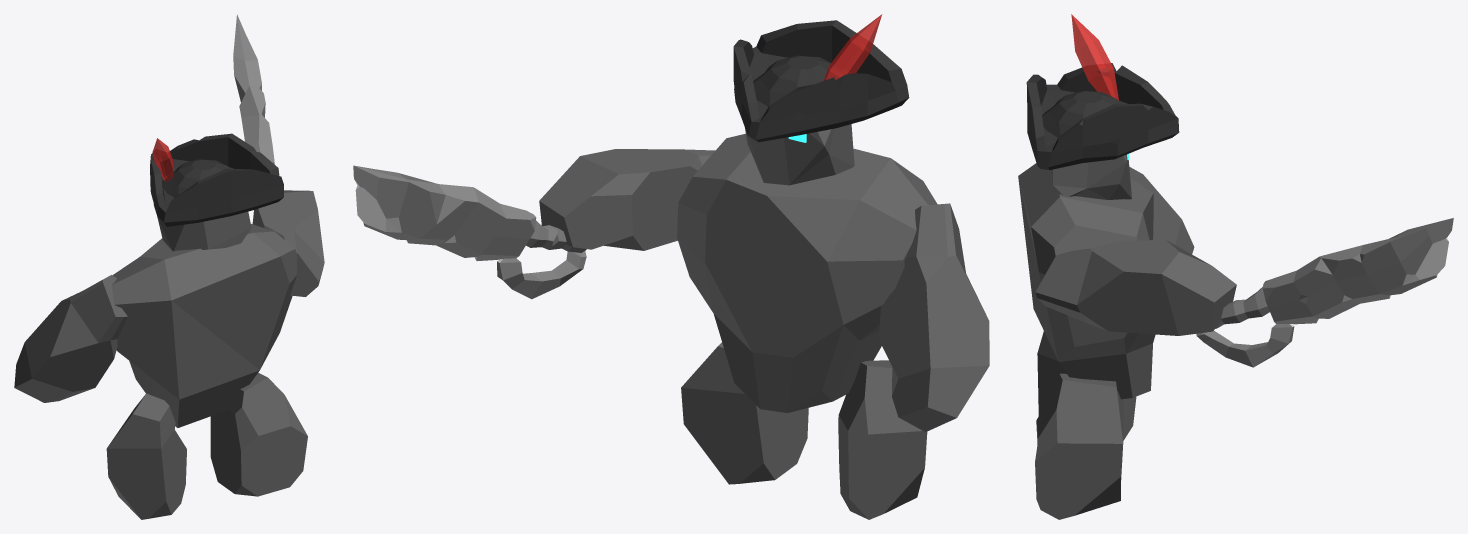
The model's file is golemSword.fbx.
3 renders of one model, left to right at view 1: azimuth 30°, elevation 25°; view 2: azimuth 150°, elevation 25°; view 3: azimuth 270°, elevation 25°, orthographic. The views are drawn at different scales.
Parts seen in each view (by area): view 1: Cube.003; view 2: Cube.003; view 3: Cube.003.
Boxes of the visible parts, box(x1,y1,x2,y2) form: Cube.003: box(14, 14, 324, 519); Cube.003: box(353, 14, 989, 519); Cube.003: box(1018, 14, 1453, 519).
Bounding box in the file's own units: 1146 × 1171 × 1067.
